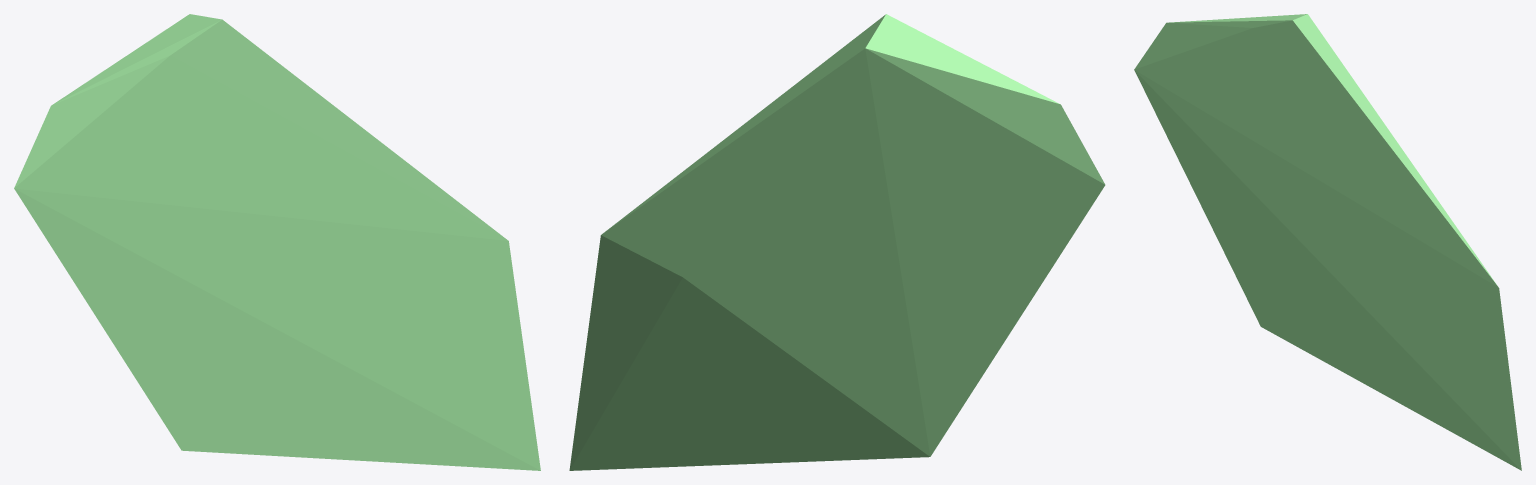
The model's file is linkhou_LR4_R560_link2_respondable_coll_14.dae.
3 views of the same model, side by side, from view 1: azimuth 30°, elevation 25°; view 2: azimuth 150°, elevation 25°; view 3: azimuth 330°, elevation 25° (orthographic). The views are drawn at different scales.
Parts seen in each view (by area): view 1: Node_00000209DB3A9E60; view 2: Node_00000209DB3A9E60; view 3: Node_00000209DB3A9E60.
Part boxes in pixels (box(x1,y1,x2,y2)): Node_00000209DB3A9E60: box(14, 14, 540, 470); Node_00000209DB3A9E60: box(569, 14, 1105, 470); Node_00000209DB3A9E60: box(1134, 14, 1521, 470).
Bounding box in the file's own units: 0.0981 × 0.0938 × 0.0104.
